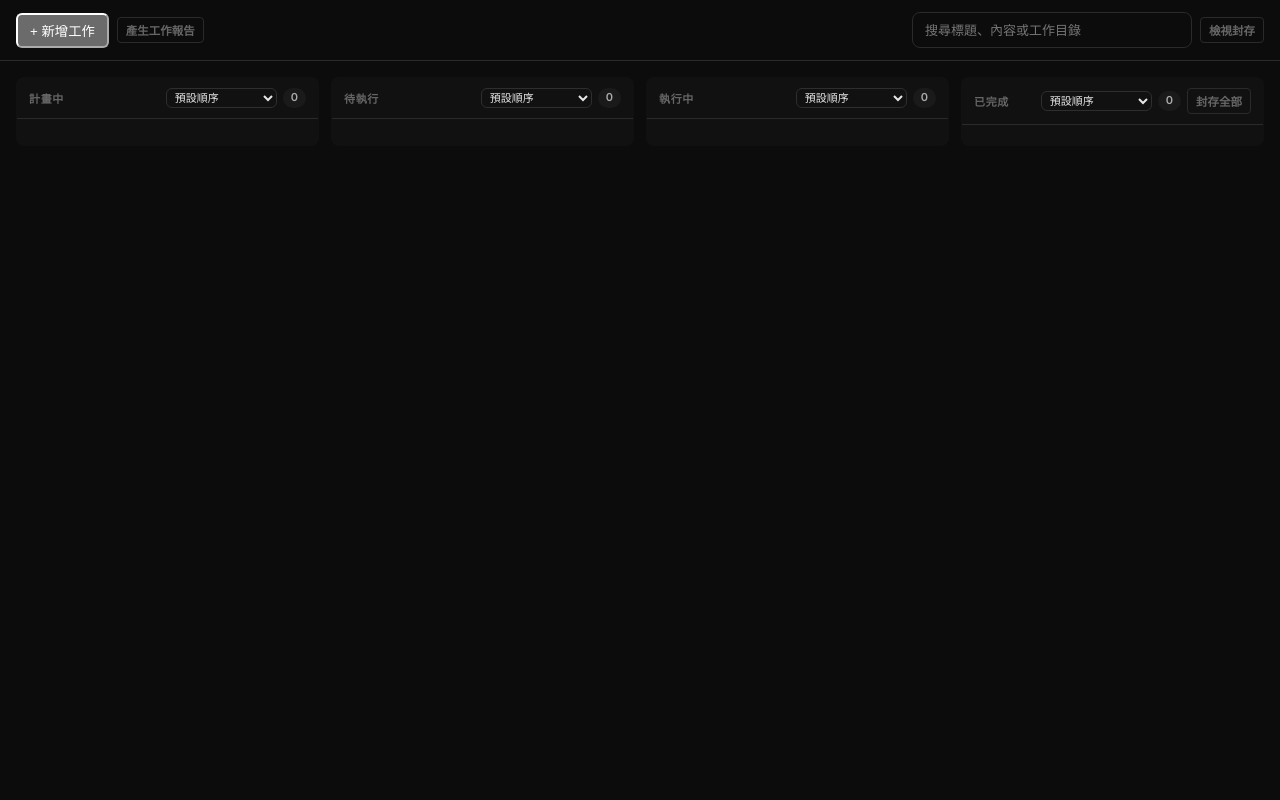
Test: ProjectBoard › 封存 › 只有一頁時不顯示翻頁控制項
Click the button with test id "open-archive".
click(1232, 30)  # box [1200, 17, 1264, 43]
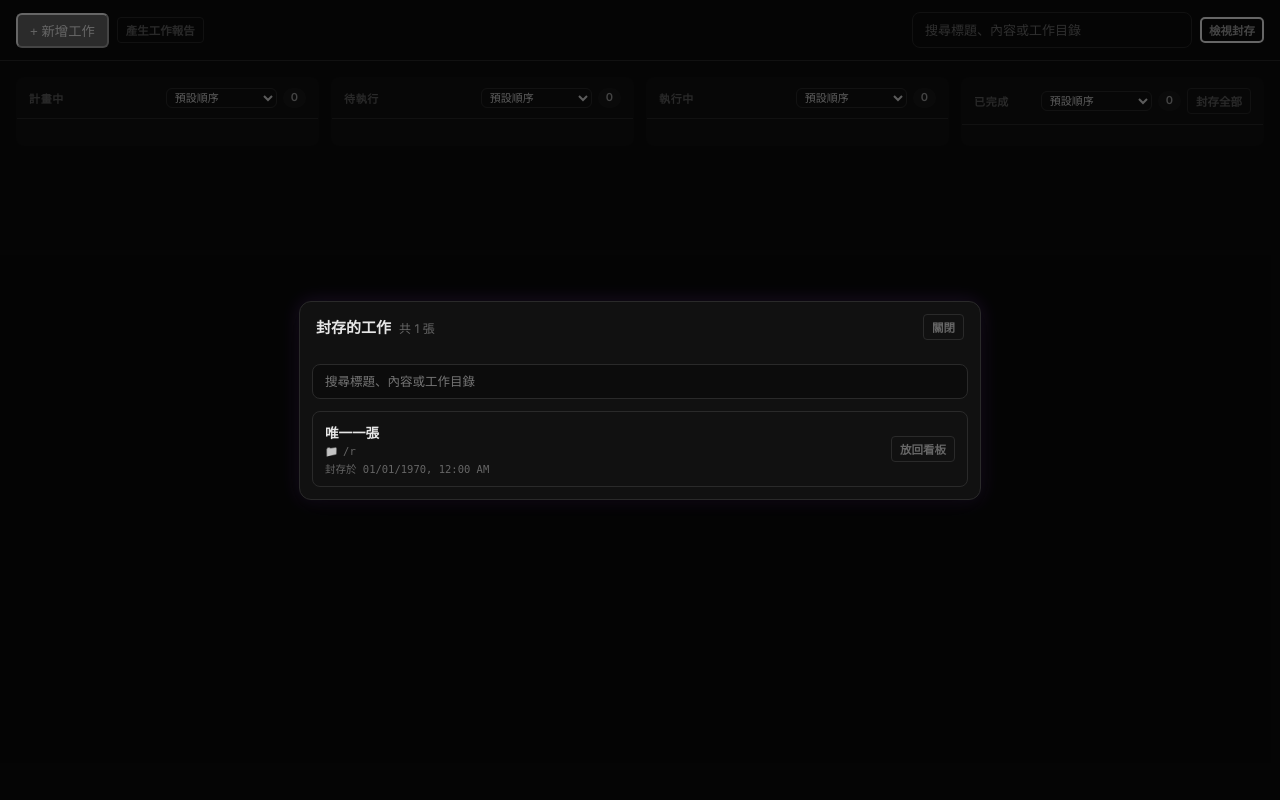
Now the text "唯一一張" is shown, box [325, 424, 379, 440]
